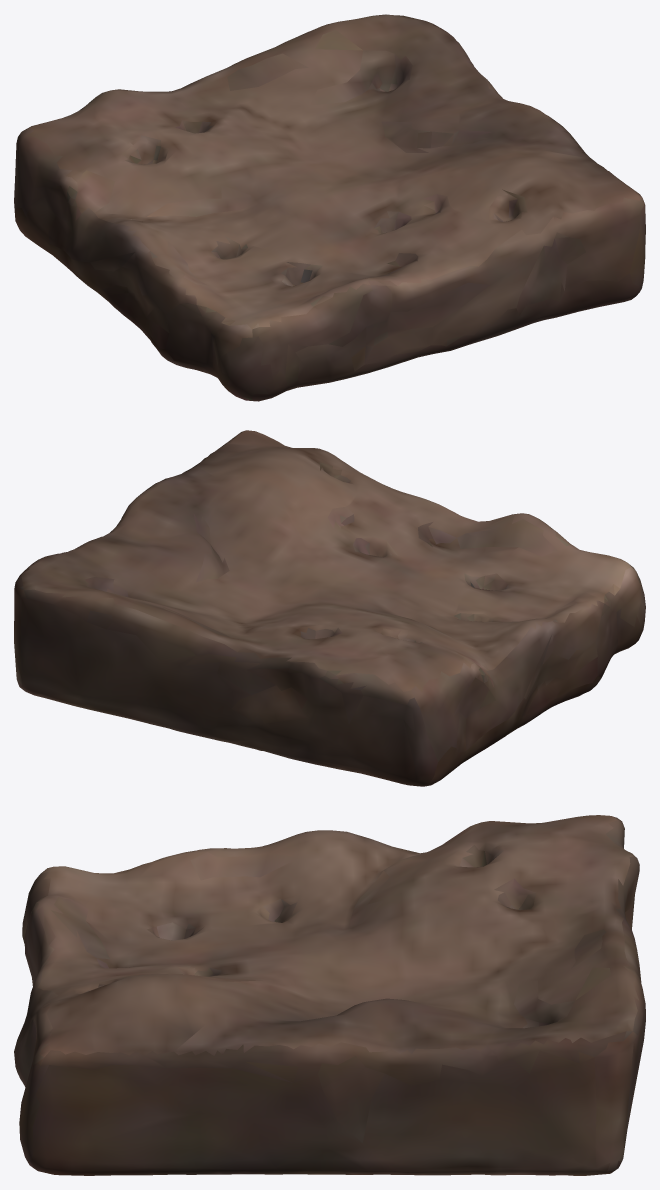
File: m05_lama_furos.glb
3 views of the same model, one above another, from view 1: azimuth 30°, elevation 25°; view 2: azimuth 150°, elevation 25°; view 3: azimuth 270°, elevation 25° (orthographic). The views are drawn at different scales.
Visible parts, largest first — view 1: m05_lama_furos; view 2: m05_lama_furos; view 3: m05_lama_furos.
Part boxes in pixels (x1,y1,x2,y2): m05_lama_furos: (14,14,645,401); m05_lama_furos: (14,430,645,786); m05_lama_furos: (14,815,645,1175).
Size of the model in its own units: 1.01 by 0.3209 by 1.02.
1 material, 1 textured.
